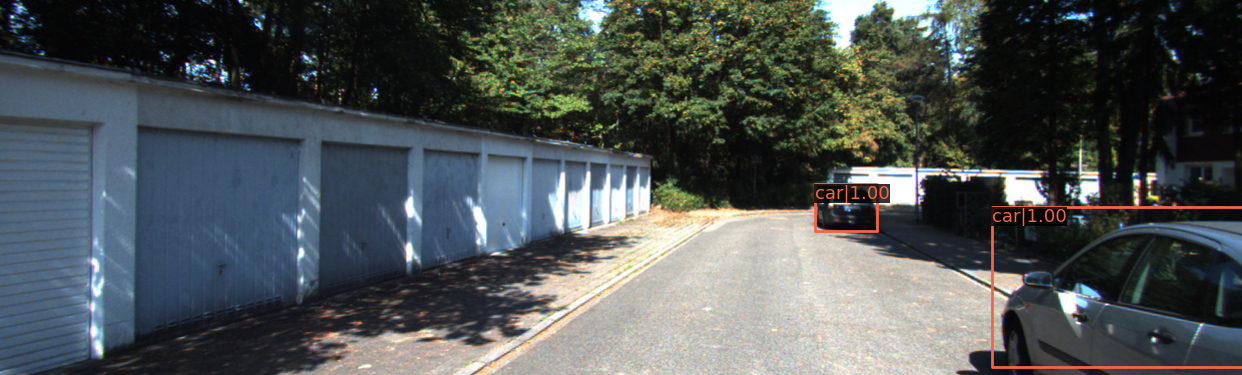car: (995, 207, 1242, 375), (819, 189, 879, 232)
